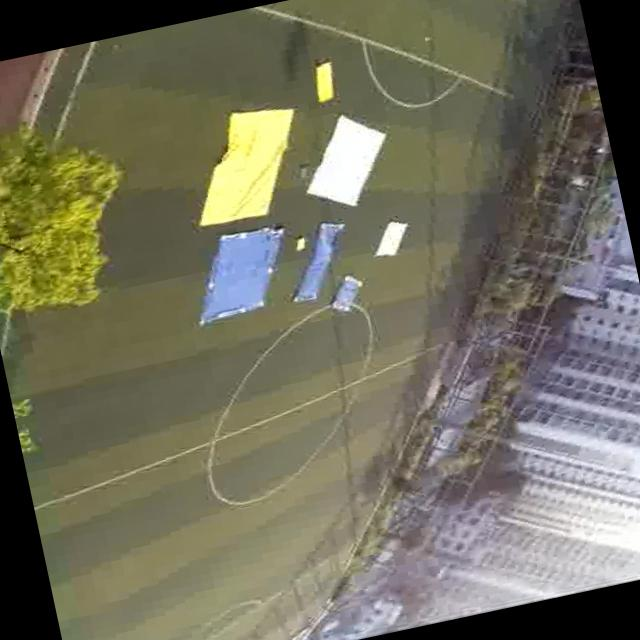danger: (192, 229, 276, 318), (306, 222, 348, 266), (327, 275, 367, 315)
safety: (312, 124, 384, 199), (371, 220, 411, 258)
warning: (201, 110, 286, 222), (309, 63, 340, 107)
